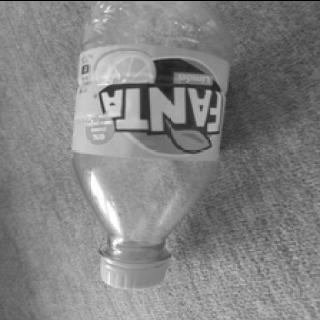plastic_bottles: (66, 0, 232, 290)
